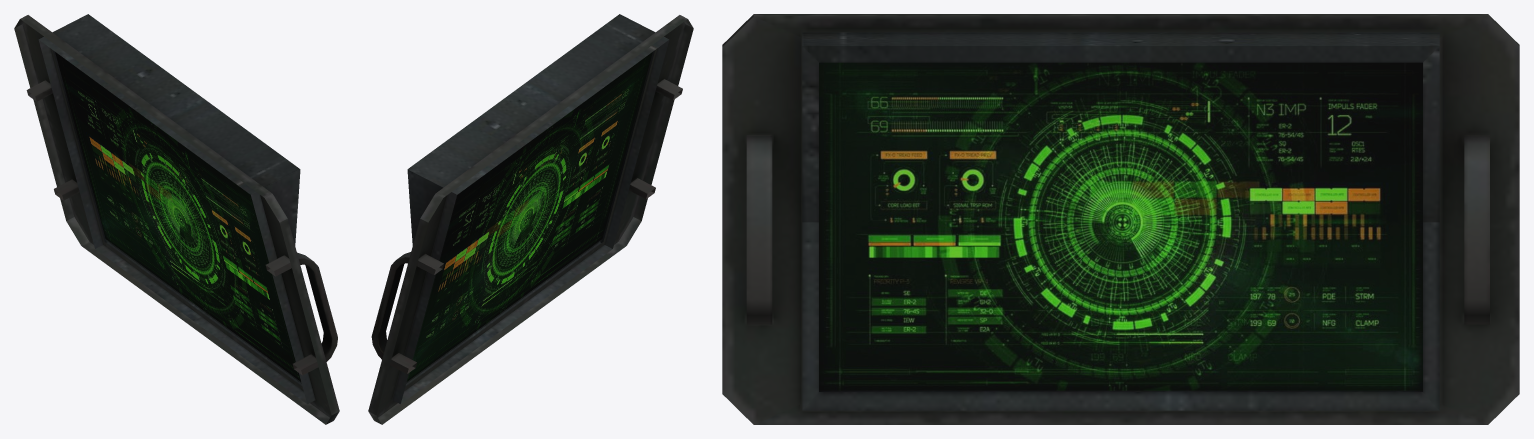
Rendered from ScreenWide.FBX.
3 renders of one model, left to right at view 1: azimuth 30°, elevation 25°; view 2: azimuth 150°, elevation 25°; view 3: azimuth 270°, elevation 25°, orthographic. The views are drawn at different scales.
Parts seen in each view (by area): view 1: ScreenWide; view 2: ScreenWide; view 3: ScreenWide.
Part boxes in pixels (x1=…): ScreenWide: x1=14, y1=14, x2=339, y2=424; ScreenWide: x1=368, y1=14, x2=693, y2=424; ScreenWide: x1=722, y1=14, x2=1519, y2=424.
Bounding box in the file's own units: 16.3 × 53.21 × 104.
2 materials, 2 textured.
